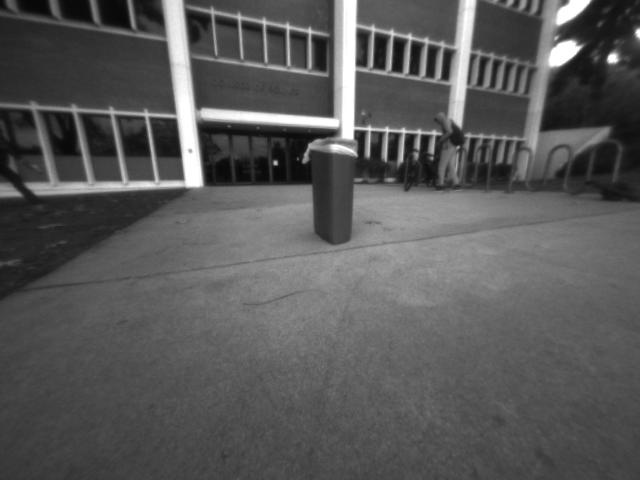trashcan: (302, 129, 364, 250)
